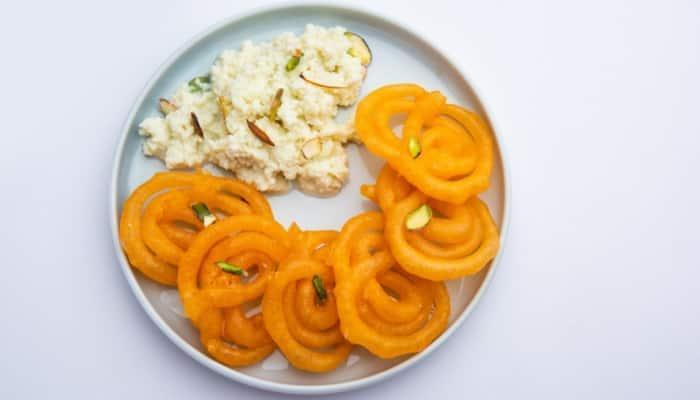jalebi: (124, 176, 453, 379), (368, 84, 498, 279)
